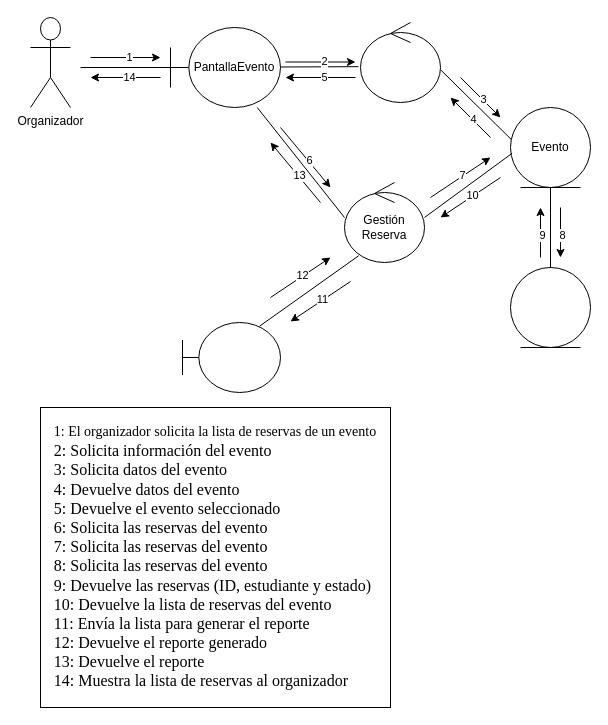
This 608x725 diagram has some shape labels left out. Here are the shapes that lost their labels. From the top down, the centre of each, then its label:
(400,62): Gestión Evento
(550,307): Reserva
(231,357): Reporte Reservas
